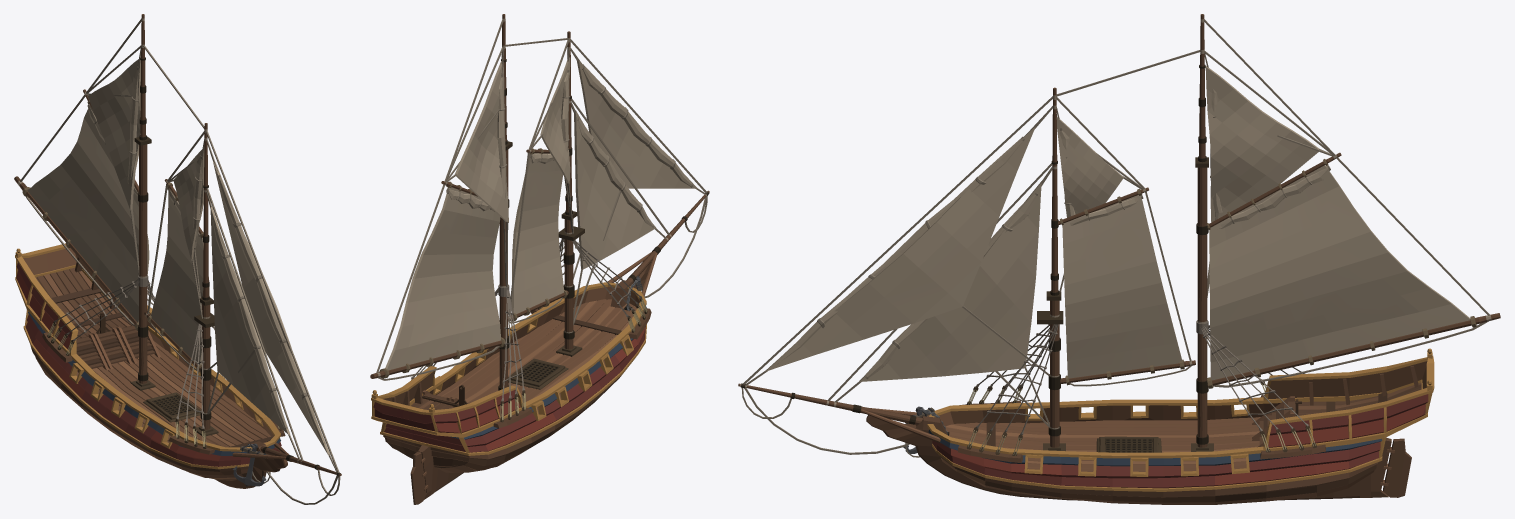
File: SM_Veh_Veh_Boat_Large_01_Hull.glb
3 renders of one model, left to right at view 1: azimuth 30°, elevation 25°; view 2: azimuth 150°, elevation 25°; view 3: azimuth 270°, elevation 25°, orthographic. The views are drawn at different scales.
Parts seen in each view (by area): view 1: SM_Veh_Boat_Large_Sails_01; view 2: SM_Veh_Boat_Large_Sails_01; view 3: SM_Veh_Boat_Large_Sails_01.
Part boxes in pixels (bbox=[...]): SM_Veh_Boat_Large_Sails_01: bbox=[14, 14, 341, 504]; SM_Veh_Boat_Large_Sails_01: bbox=[370, 14, 709, 504]; SM_Veh_Boat_Large_Sails_01: bbox=[738, 14, 1500, 504].
Bounding box in the file's own units: 0.0746 × 0.2542 × 0.3619.
